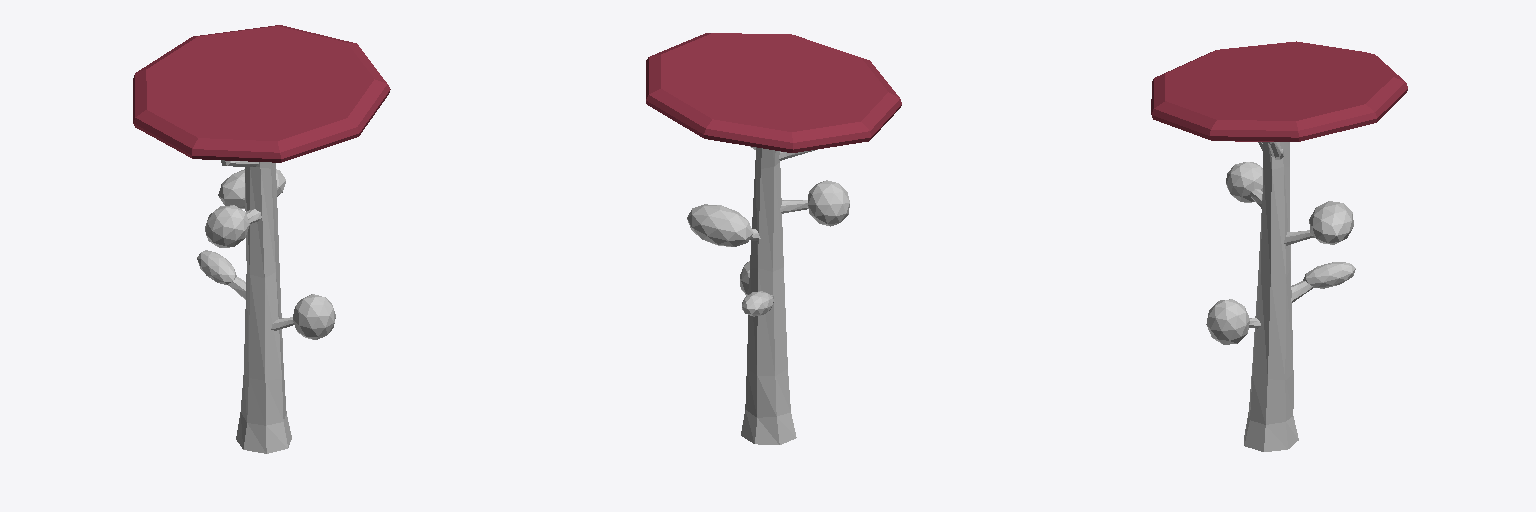
3 views of the same model, side by side, from view 1: azimuth 30°, elevation 25°; view 2: azimuth 150°, elevation 25°; view 3: azimuth 270°, elevation 25° (orthographic).
Visible parts, largest first — view 1: Icosphere.000_Icosphere.011; view 2: Icosphere.000_Icosphere.011; view 3: Icosphere.000_Icosphere.011.
Part boxes in pixels (x1,y1,x2,y2): Icosphere.000_Icosphere.011: (133,25,390,453); Icosphere.000_Icosphere.011: (646,33,901,444); Icosphere.000_Icosphere.011: (1151,41,1407,451).
Bounding box in the file's own units: 2.39 × 3.7 × 2.35.
3 materials, 1 textured.